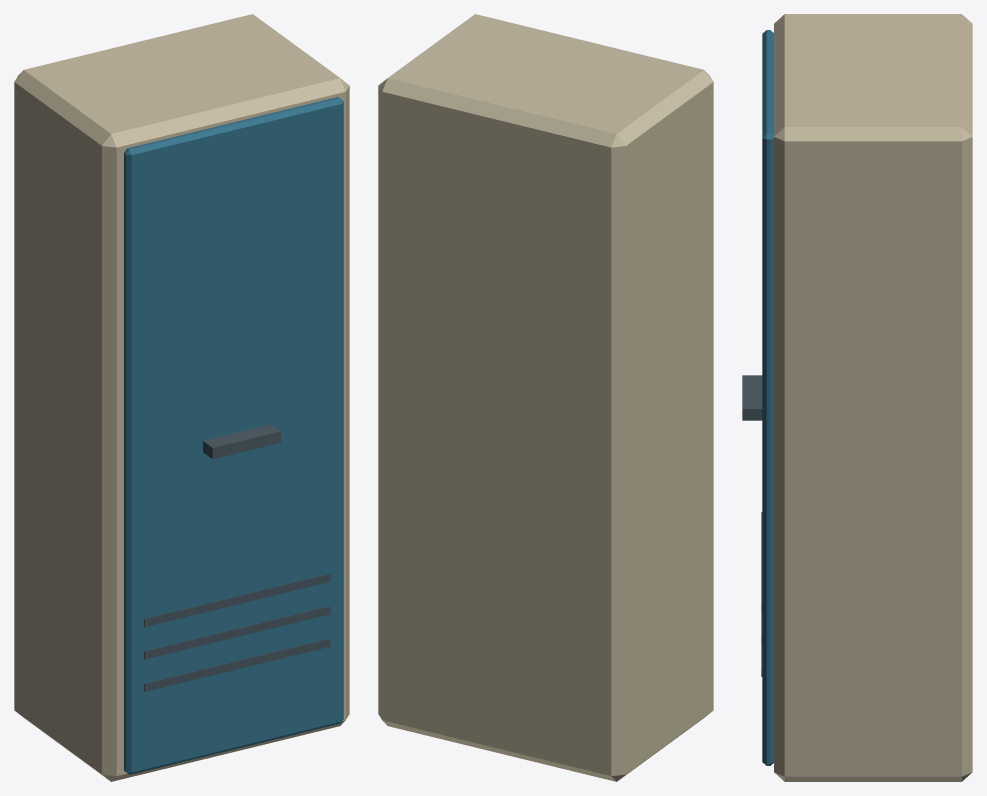
File: utility_cabinet.glb
The picture shows the model from 3 angles, left to right: view 1: azimuth 30°, elevation 25°; view 2: azimuth 150°, elevation 25°; view 3: azimuth 270°, elevation 25°; orthographic projection.
Visible parts, largest first — view 1: utility_cabinet; view 2: utility_cabinet; view 3: utility_cabinet.
Part boxes in pixels (left/top/right/bottom): utility_cabinet: left=14, top=14, right=349, bottom=781; utility_cabinet: left=378, top=14, right=713, bottom=781; utility_cabinet: left=742, top=14, right=972, bottom=781.
Bounding box in the file's own units: 0.8 × 2 × 0.6375.
